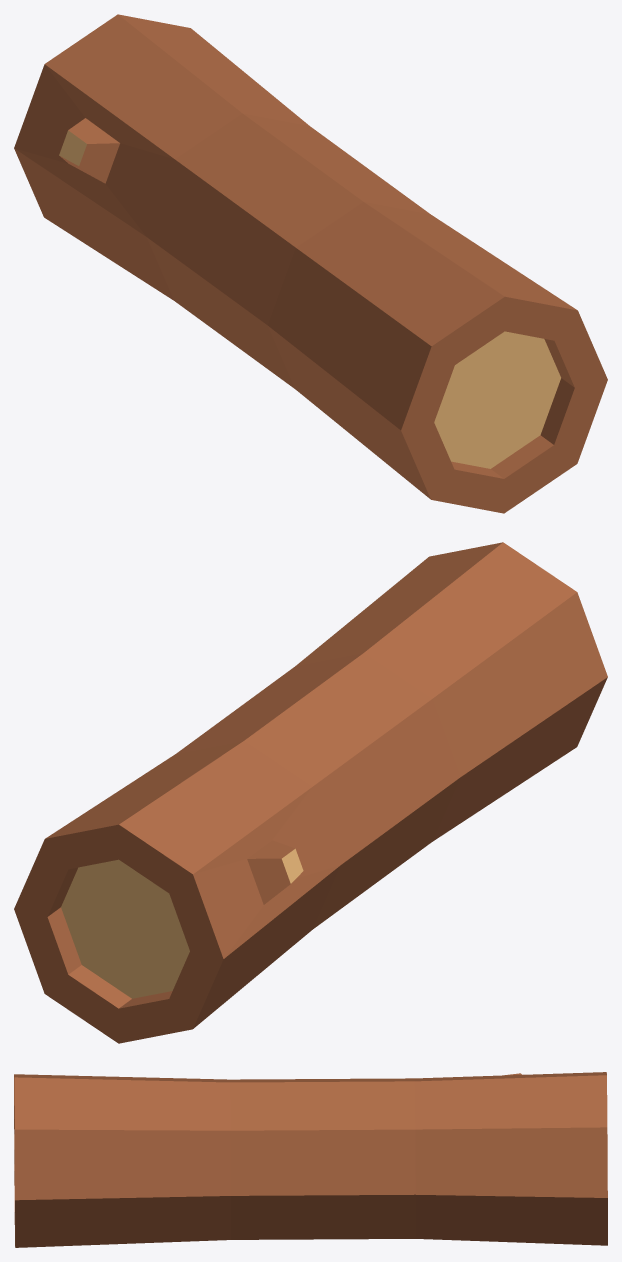
File: Lumber-Visual.fbx
The picture shows the model from 3 angles, top to bottom: view 1: azimuth 30°, elevation 25°; view 2: azimuth 150°, elevation 25°; view 3: azimuth 270°, elevation 25°; orthographic projection. The views are drawn at different scales.
Visible parts, largest first — view 1: Lumber; view 2: Lumber; view 3: Lumber.
Boxes of the visible parts, x1=… form: Lumber: x1=14, y1=14, x2=607, y2=513; Lumber: x1=14, y1=542, x2=607, y2=1043; Lumber: x1=14, y1=1072, x2=607, y2=1247.
Bounding box in the file's own units: 1.38 × 1.3 × 4.16.
